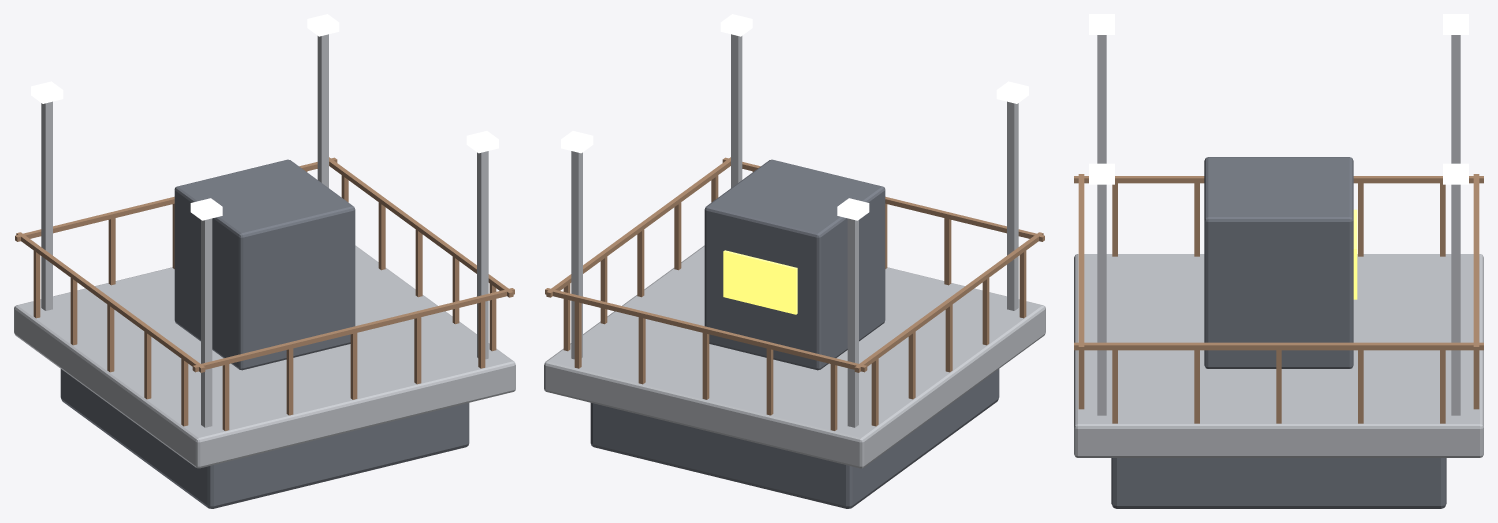
The model's file is sky_node.glb.
3 renders of one model, left to right at view 1: azimuth 30°, elevation 25°; view 2: azimuth 150°, elevation 25°; view 3: azimuth 270°, elevation 25°, orthographic. The views are drawn at different scales.
Visible parts, largest first — view 1: ext_node_floor, ext_node_kiosk, ext_node_under, ext_node_rail, ext_node_lamp0, ext_node_lamp2, ext_node_lamp1, ext_node_lamp3, ext_node_lamp_glow1, ext_node_lamp_glow2, ext_node_lamp_glow3; view 2: ext_node_floor, ext_node_kiosk, ext_node_under, ext_node_rail, ext_node_kiosk_glow, ext_node_lamp2, ext_node_lamp0, ext_node_lamp3, ext_node_lamp1, ext_node_lamp_glow0, ext_node_lamp_glow1, ext_node_lamp_glow3; view 3: ext_node_floor, ext_node_kiosk, ext_node_under, ext_node_rail, ext_node_lamp1, ext_node_lamp3, ext_node_lamp0, ext_node_lamp2, ext_node_lamp_glow1, ext_node_lamp_glow3, ext_node_lamp_glow0, ext_node_lamp_glow2.
Boxes of the visible parts, bbox=[...] form: ext_node_floor: bbox=[14, 245, 515, 468]; ext_node_kiosk: bbox=[174, 159, 355, 370]; ext_node_under: bbox=[60, 369, 469, 508]; ext_node_rail: bbox=[15, 157, 514, 430]; ext_node_lamp0: bbox=[201, 218, 212, 427]; ext_node_lamp2: bbox=[41, 101, 52, 310]; ext_node_lamp1: bbox=[477, 151, 488, 359]; ext_node_lamp3: bbox=[317, 34, 328, 187]; ext_node_lamp_glow1: bbox=[466, 131, 498, 153]; ext_node_lamp_glow2: bbox=[31, 81, 63, 103]; ext_node_lamp_glow3: bbox=[307, 14, 339, 36]; ext_node_floor: bbox=[544, 245, 1045, 468]; ext_node_kiosk: bbox=[704, 159, 885, 370]; ext_node_under: bbox=[590, 369, 999, 508]; ext_node_rail: bbox=[545, 157, 1044, 430]; ext_node_kiosk_glow: bbox=[723, 250, 797, 314]; ext_node_lamp2: bbox=[847, 218, 858, 427]; ext_node_lamp0: bbox=[1007, 101, 1018, 310]; ext_node_lamp3: bbox=[571, 151, 582, 359]; ext_node_lamp1: bbox=[731, 34, 742, 187]; ext_node_lamp_glow0: bbox=[996, 81, 1028, 103]; ext_node_lamp_glow1: bbox=[720, 14, 752, 36]; ext_node_lamp_glow3: bbox=[561, 131, 593, 153]; ext_node_floor: bbox=[1074, 254, 1483, 457]; ext_node_kiosk: bbox=[1204, 157, 1353, 368]; ext_node_under: bbox=[1111, 458, 1446, 508]; ext_node_rail: bbox=[1074, 174, 1483, 423]; ext_node_lamp1: bbox=[1097, 184, 1106, 415]; ext_node_lamp3: bbox=[1451, 184, 1460, 415]; ext_node_lamp0: bbox=[1097, 35, 1106, 163]; ext_node_lamp2: bbox=[1451, 35, 1460, 163]; ext_node_lamp_glow1: bbox=[1089, 163, 1114, 184]; ext_node_lamp_glow3: bbox=[1443, 163, 1468, 184]; ext_node_lamp_glow0: bbox=[1089, 14, 1114, 34]; ext_node_lamp_glow2: bbox=[1443, 14, 1468, 34].
Size of the model in its own units: 2.2 by 2.07 by 2.2.
